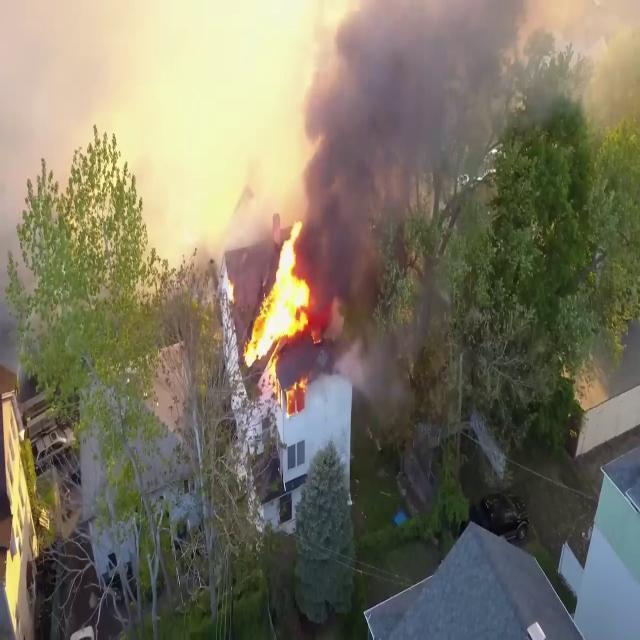Fire: (244, 212, 318, 388)
Smoke: (294, 0, 640, 278)
